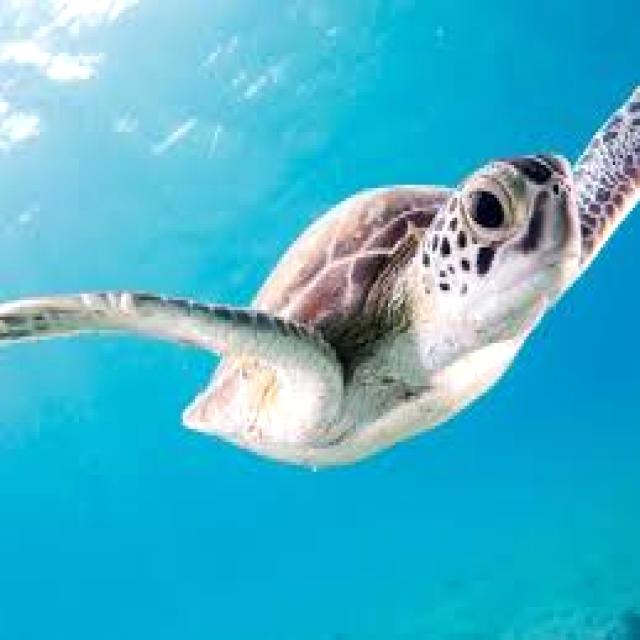Sea turtle: (2, 60, 640, 480)
